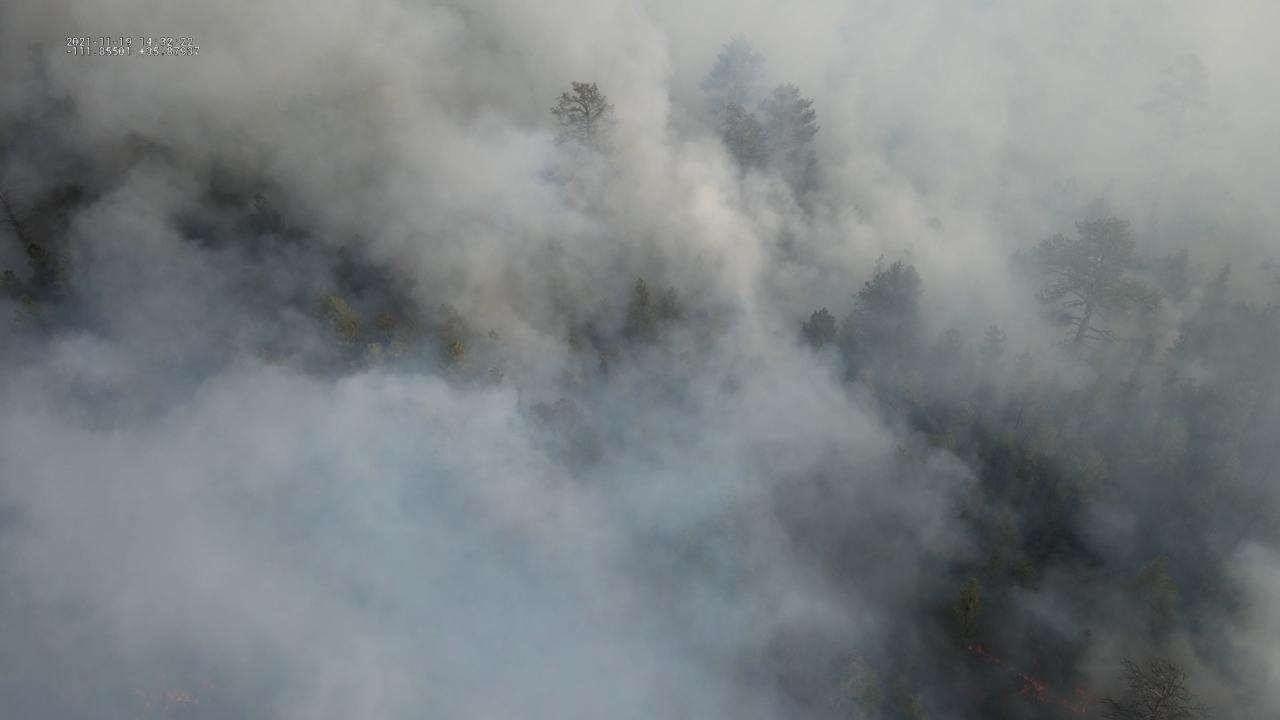fire: (1014, 669, 1095, 715), (961, 640, 1001, 668)
smoke: (0, 0, 1280, 720)
